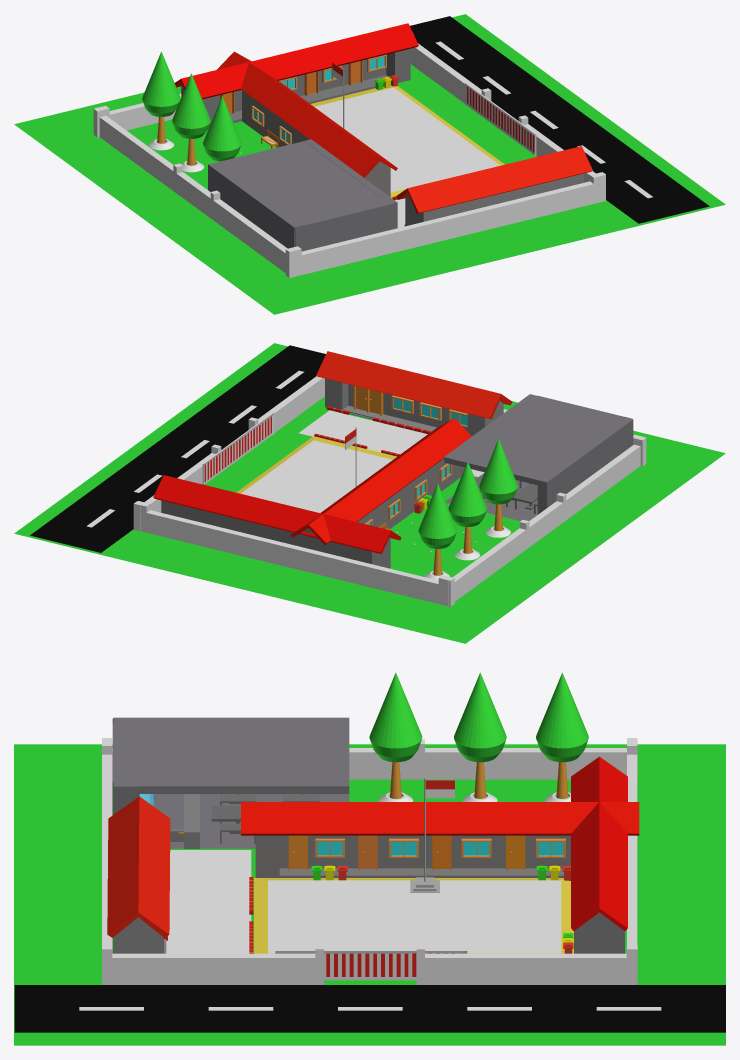
File: lomba.glb
The picture shows the model from 3 angles, top to bottom: view 1: azimuth 30°, elevation 25°; view 2: azimuth 150°, elevation 25°; view 3: azimuth 270°, elevation 25°; orthographic projection. The views are drawn at different scales.
Parts seen in each view (by area): view 1: Cube.002, Plane.001, Cube.018, Plane, Cube.054, atap, Cube.037, atap.001, Cube.016, gedung 2, Cube.017, Cube.036 (+8 smaller); view 2: Cube.002, Plane.001, Cube.018, Cube.053, Plane, atap, Cube.037, atap.001, gedung 2, Cube.016, Cube.059, Cube.036 (+8 smaller); view 3: Cube.002, Plane.001, Plane, Cube.018, atap.001, Cube.059, gedung 1, atap, Cube.037, Cube.015, Cube.014, Cube.017 (+18 smaller).
Boxes of the visible parts, x1,y1,x2,y2 form: Cube.002: [14, 14, 725, 314]; Plane.001: [410, 16, 709, 223]; Cube.018: [208, 139, 397, 251]; Plane: [310, 85, 504, 198]; Cube.054: [285, 172, 605, 277]; atap: [174, 23, 418, 99]; Cube.037: [396, 146, 592, 213]; atap.001: [217, 51, 397, 177]; Cube.016: [173, 171, 297, 272]; gedung 2: [181, 48, 410, 129]; Cube.017: [96, 106, 182, 192]; Cube.036: [405, 173, 583, 226]; Cube.002: [14, 343, 725, 643]; Plane.001: [30, 345, 325, 552]; Cube.018: [443, 394, 633, 520]; Cube.053: [134, 501, 454, 606]; Plane: [236, 436, 396, 512]; atap: [153, 475, 401, 553]; Cube.037: [316, 351, 512, 419]; atap.001: [291, 418, 471, 544]; gedung 2: [161, 500, 390, 568]; Cube.016: [529, 437, 643, 546]; Cube.059: [298, 410, 484, 476]; Cube.036: [325, 378, 503, 436]; Cube.002: [14, 744, 725, 1045]; Plane.001: [14, 985, 725, 1032]; Plane: [254, 877, 573, 953]; Cube.018: [112, 717, 349, 848]; atap.001: [241, 802, 639, 835]; Cube.059: [166, 850, 251, 953]; gedung 1: [255, 835, 570, 877]; atap: [571, 756, 627, 930]; Cube.037: [107, 796, 170, 937]; Cube.015: [102, 945, 323, 984]; Cube.014: [416, 945, 637, 984]; Cube.017: [416, 739, 637, 779].
Bounding box in the file's own units: 47.67 × 9.67 × 47.59.
